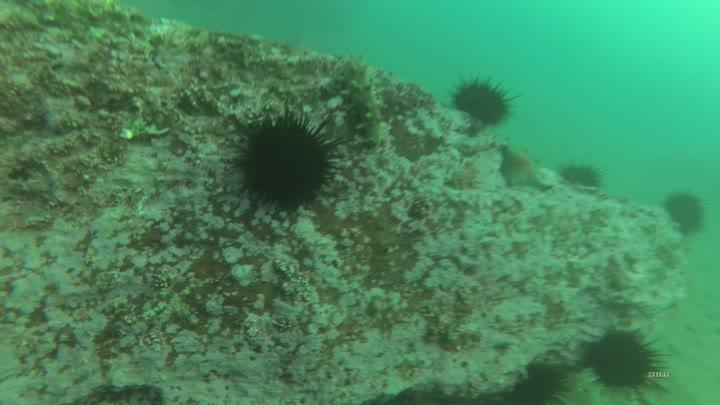urchin: (232, 105, 339, 217), (587, 321, 668, 392), (446, 67, 517, 133), (662, 185, 709, 243), (556, 159, 606, 193)
